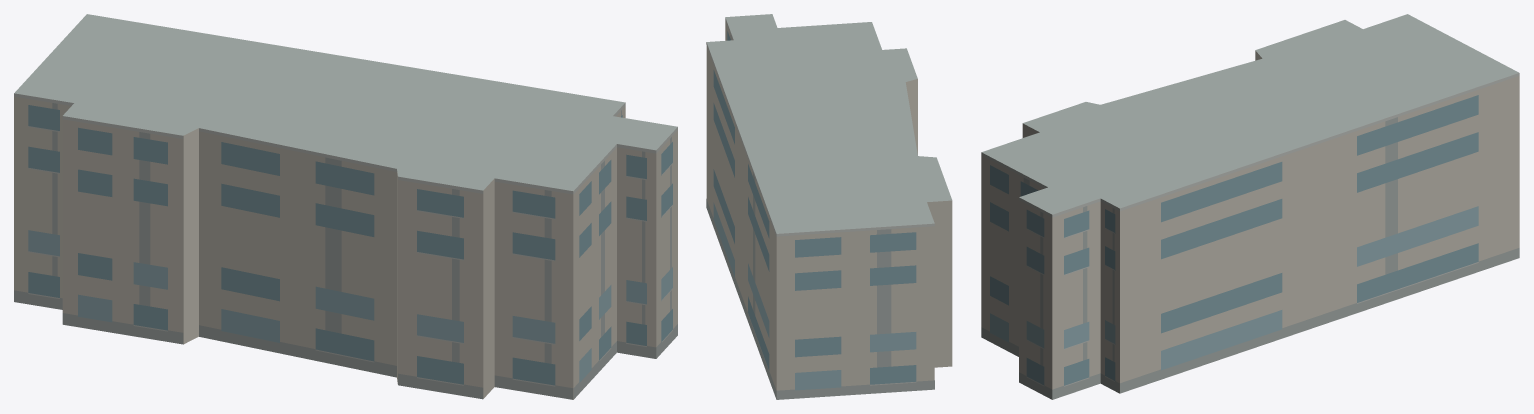
The model's file is residential-059bc010-3003-4c0a-ab18-a35a8e57279b.glb.
3 renders of one model, left to right at view 1: azimuth 30°, elevation 25°; view 2: azimuth 150°, elevation 25°; view 3: azimuth 270°, elevation 25°, orthographic. The views are drawn at different scales.
Parts seen in each view (by area): view 1: residential-059bc010-3003-4c0a-ab18-a35a8e57279b.tmp; view 2: residential-059bc010-3003-4c0a-ab18-a35a8e57279b.tmp; view 3: residential-059bc010-3003-4c0a-ab18-a35a8e57279b.tmp.
Boxes of the visible parts, box(x1,y1,x2,y2) form: residential-059bc010-3003-4c0a-ab18-a35a8e57279b.tmp: box(14, 14, 677, 399); residential-059bc010-3003-4c0a-ab18-a35a8e57279b.tmp: box(706, 14, 952, 399); residential-059bc010-3003-4c0a-ab18-a35a8e57279b.tmp: box(981, 14, 1519, 399).
Size of the model in its own units: 35.46 by 15.25 by 40.17.
